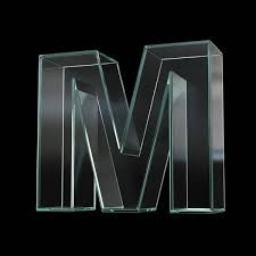m: (30, 32, 230, 224)
